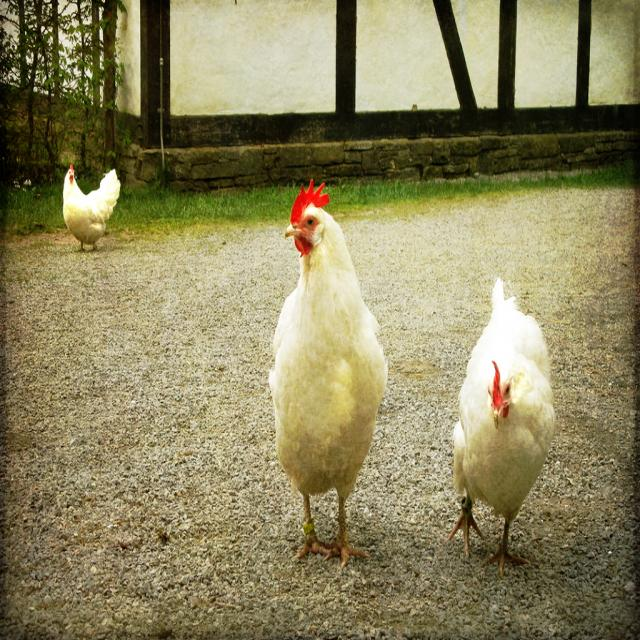Chicken: (281, 178, 394, 592), (446, 275, 555, 575), (61, 162, 121, 252)
